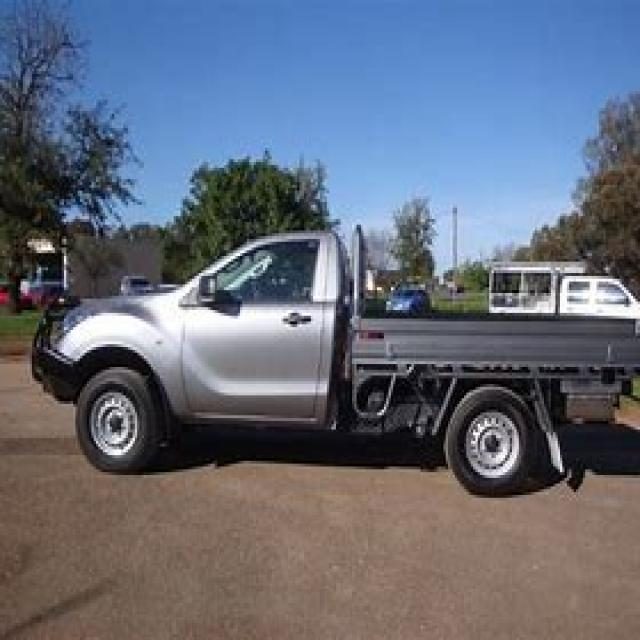light_vehicle: (34, 213, 638, 509)
